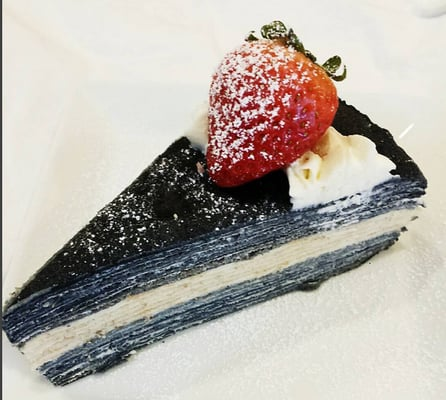sandwich: (4, 181, 422, 386)
